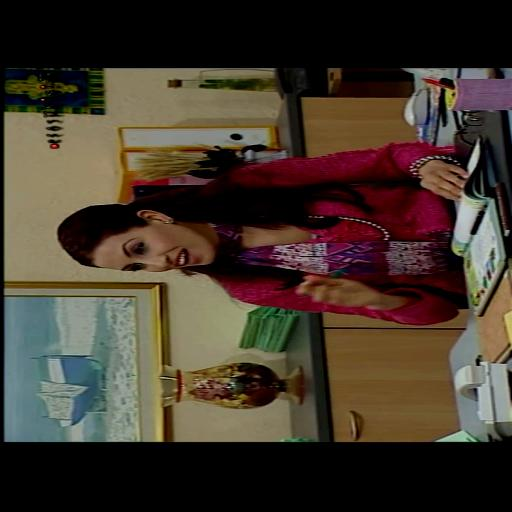Dalanda: (92, 210, 217, 272)
